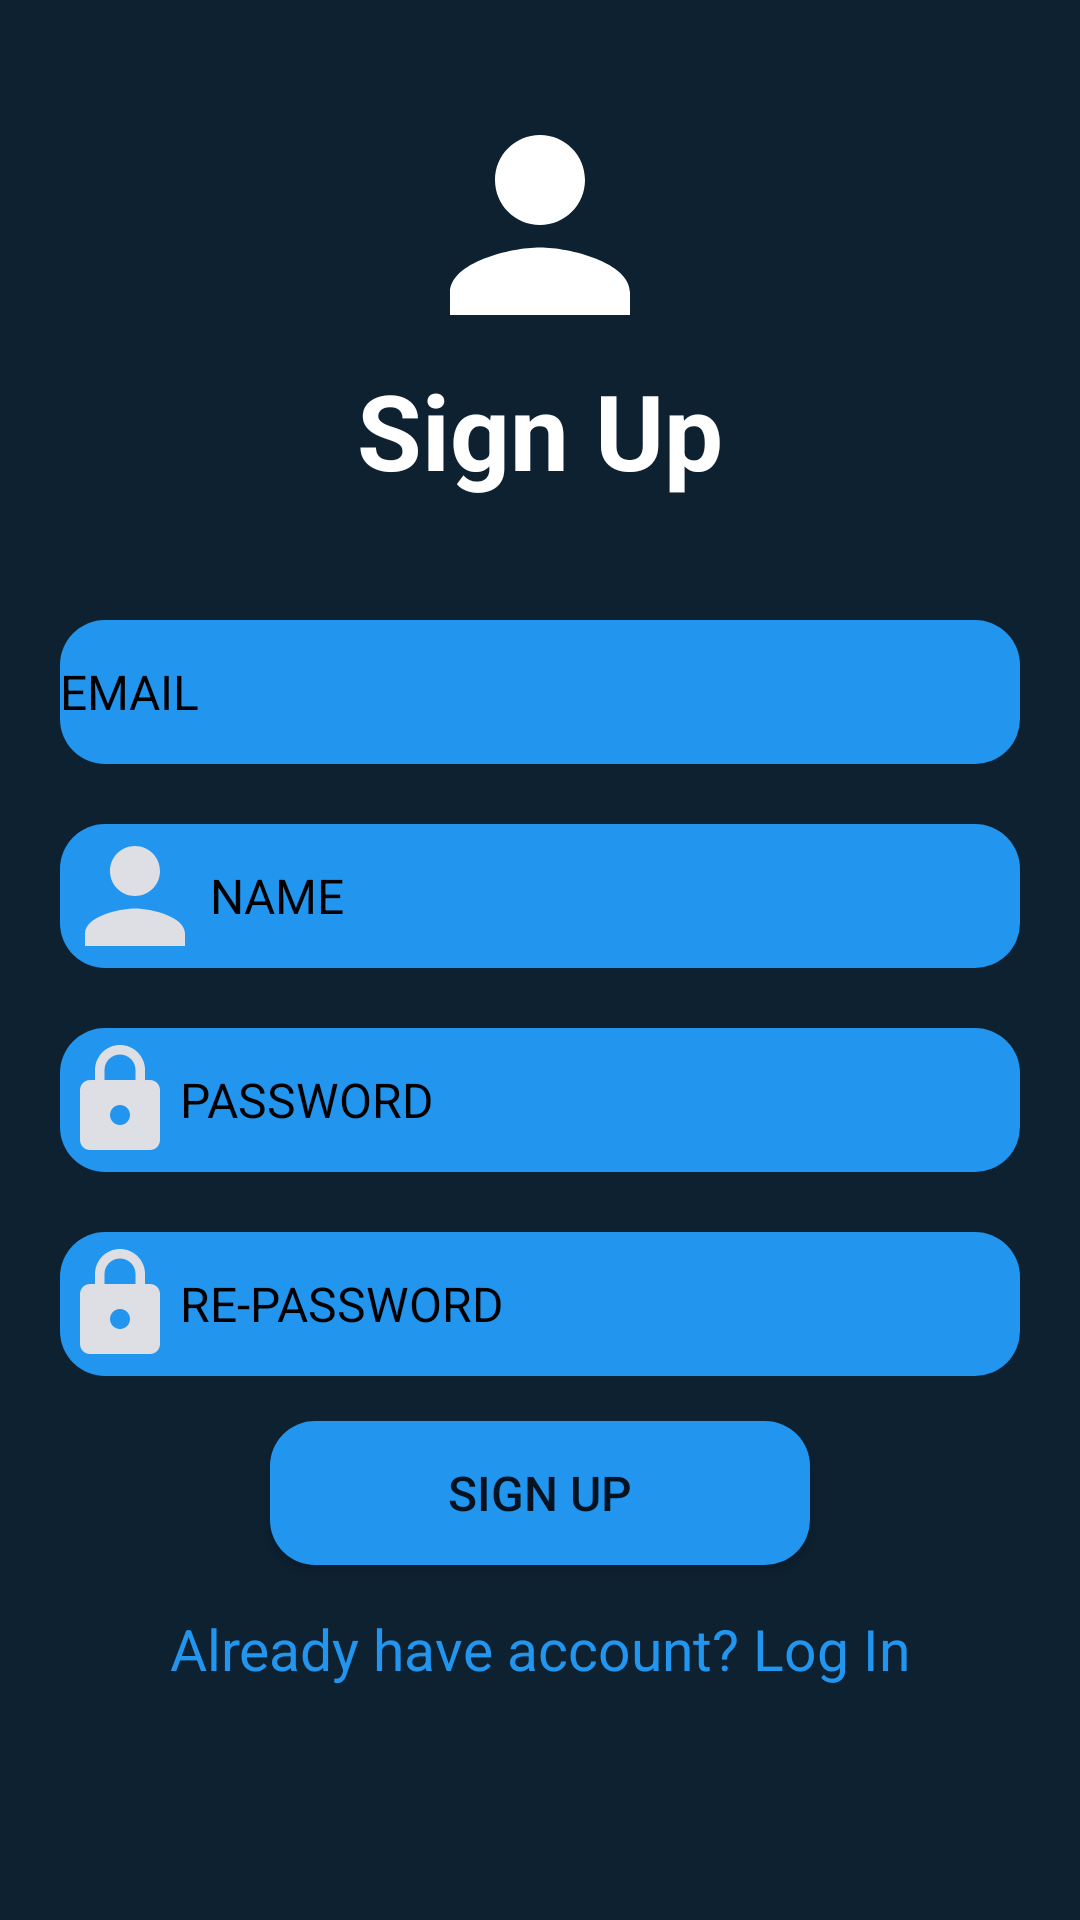

Where icons sit on this 1080w x 1920h app screen, as bbox=(x1, y1, x2, y2):
profile: bbox=(450, 135, 630, 315)
